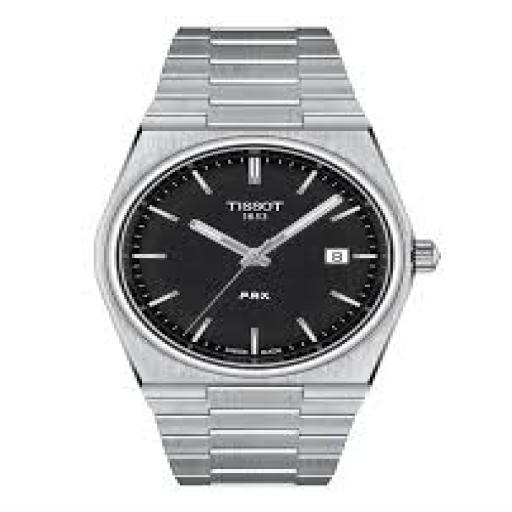KolSaati: (67, 17, 474, 504)
